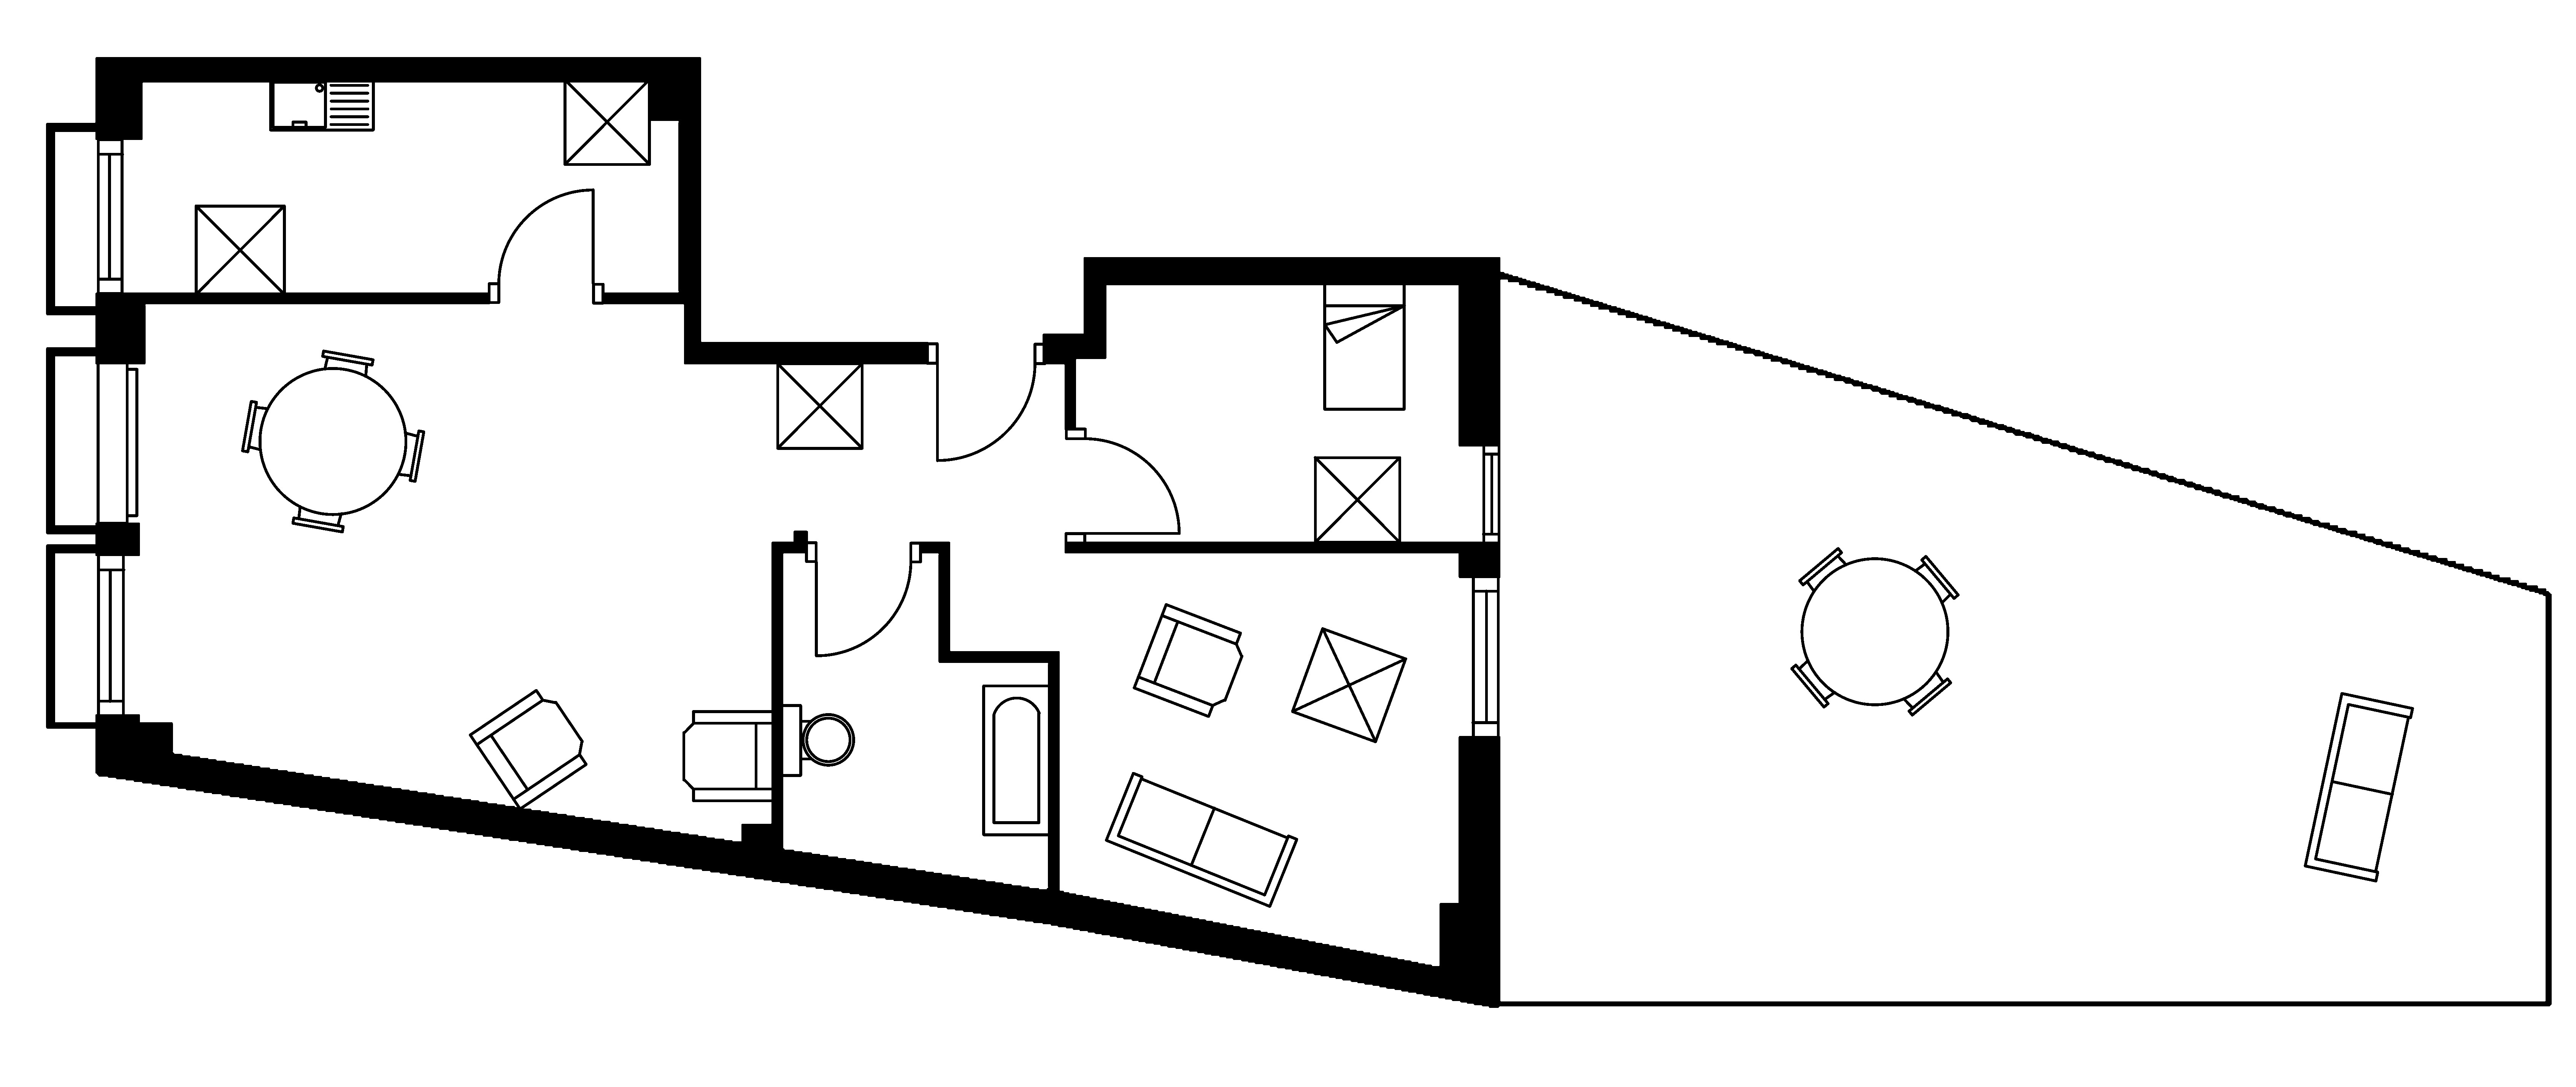armchair: (468, 687, 588, 811), (1132, 602, 1244, 719), (682, 709, 774, 803)
bed: (1322, 281, 1406, 411)
coffee_table: (1290, 627, 1408, 743), (194, 204, 286, 296), (562, 77, 651, 166), (775, 362, 864, 451), (1313, 456, 1401, 544)
large_sink: (780, 704, 854, 778)
large_sofa: (1104, 771, 1298, 908), (2303, 691, 2413, 883)
round_table: (240, 349, 425, 533), (1789, 546, 1960, 717)
sink: (268, 77, 375, 132)
tub: (981, 684, 1051, 837)
